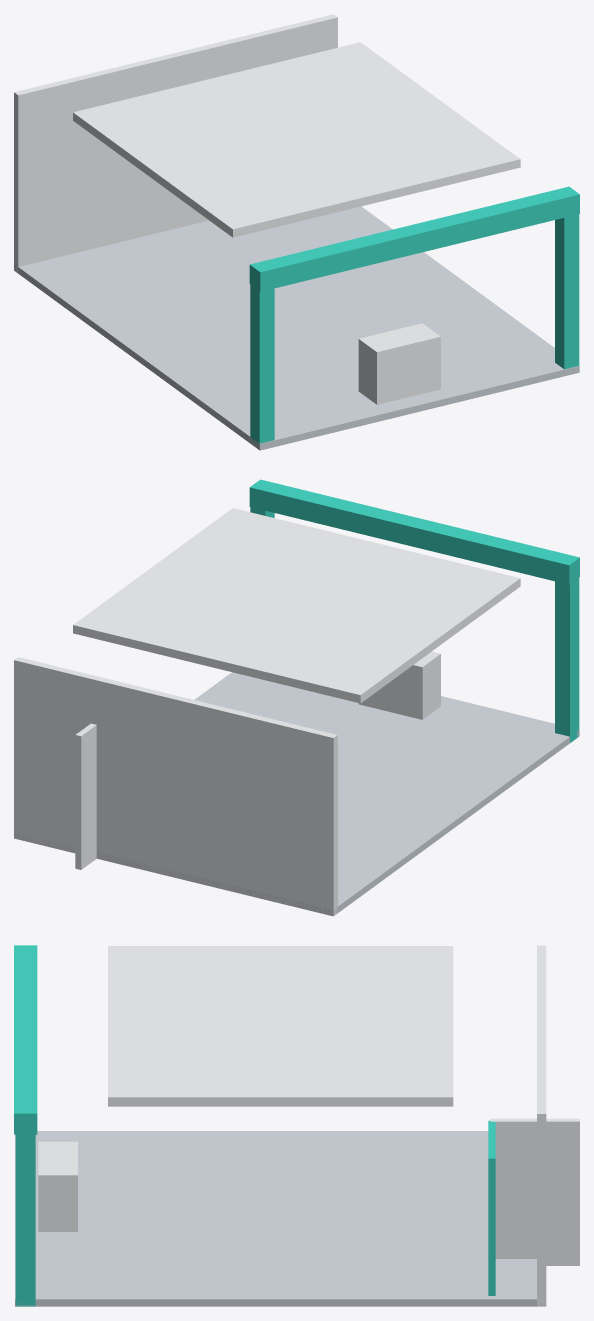
3 renders of one model, top to bottom at view 1: azimuth 30°, elevation 25°; view 2: azimuth 150°, elevation 25°; view 3: azimuth 270°, elevation 25°, orthographic. The views are drawn at different scales.
Parts seen in each view (by area): view 1: Exhibition Booth Concept; view 2: Exhibition Booth Concept; view 3: Exhibition Booth Concept.
Boxes of the visible parts, x1=… form: Exhibition Booth Concept: x1=14, y1=14, x2=579, y2=450; Exhibition Booth Concept: x1=14, y1=479, x2=579, y2=916; Exhibition Booth Concept: x1=14, y1=945, x2=579, y2=1306.
Size of the model in its own units: 6 by 3.34 by 8.52.
